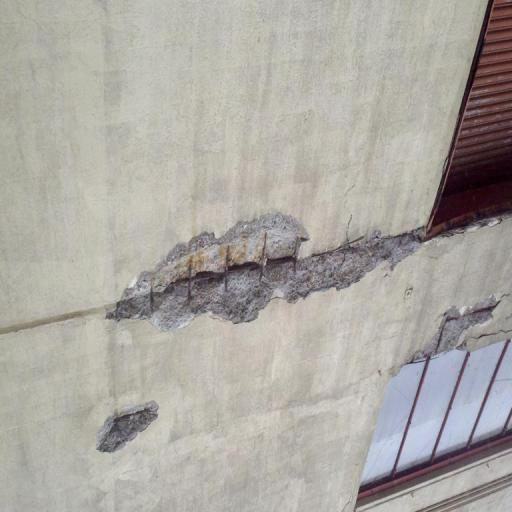spalling: (112, 218, 427, 332), (413, 300, 506, 356), (92, 403, 160, 454)
